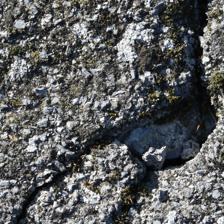Crack: (0, 25, 108, 136), (75, 5, 127, 173), (62, 58, 159, 115)
